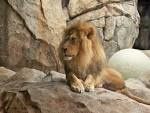lion: (57, 17, 128, 99)
